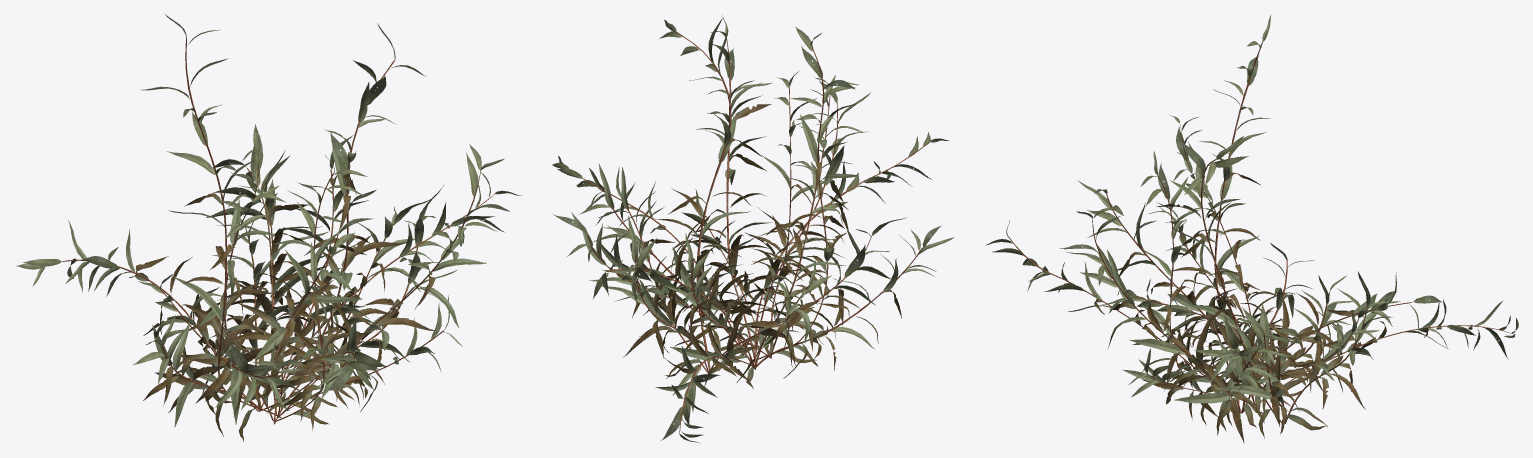
The model's file is shrub_02.fbx.
The picture shows the model from 3 angles, left to right: view 1: azimuth 30°, elevation 25°; view 2: azimuth 150°, elevation 25°; view 3: azimuth 270°, elevation 25°; orthographic projection. The views are drawn at different scales.
Visible parts, largest first — view 1: shrub_02_a.001, shrub_02_c.001, shrub_02_b.001, shrub_02_d.001; view 2: shrub_02_c.001, shrub_02_a.001, shrub_02_b.001, shrub_02_d.001; view 3: shrub_02_a.001, shrub_02_b.001, shrub_02_c.001, shrub_02_d.001.
Part boxes in pixels (box(x1,y1,x2,y2)): shrub_02_a.001: box(140, 14, 509, 441); shrub_02_c.001: box(16, 124, 521, 436); shrub_02_b.001: box(181, 23, 432, 424); shrub_02_d.001: box(138, 135, 462, 430); shrub_02_c.001: box(552, 77, 954, 443); shrub_02_a.001: box(578, 15, 870, 363); shrub_02_b.001: box(596, 18, 906, 382); shrub_02_d.001: box(553, 70, 833, 365); shrub_02_a.001: box(1059, 14, 1442, 443); shrub_02_b.001: box(1101, 136, 1400, 438); shrub_02_c.001: box(985, 115, 1518, 426); shrub_02_d.001: box(1123, 151, 1379, 425).
Bounding box in the file's own units: 1.77 × 1.69 × 2.29.
Materials: 1 (1 with a texture image).
